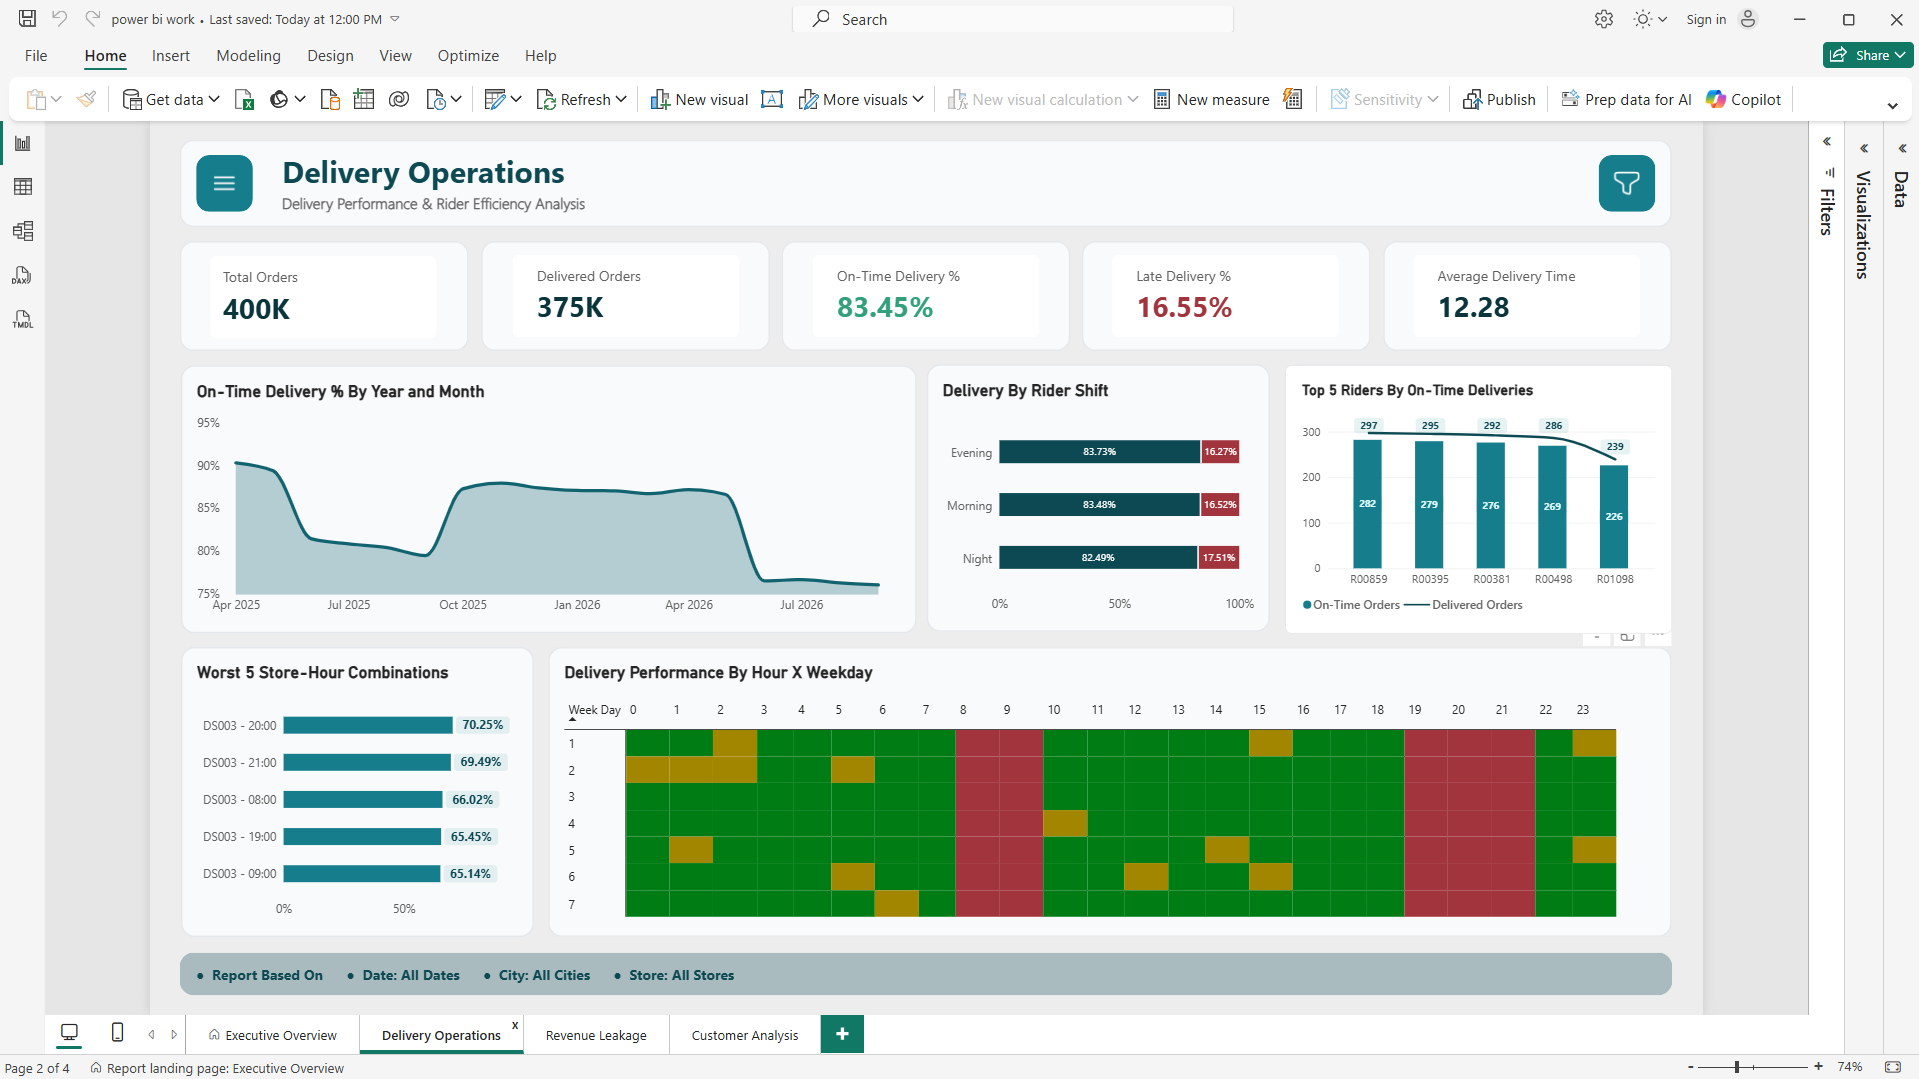

Layout of this report page (visuals, bound fields, positions):
{"tool":"powerbi","page":{"name":"Delivery Operations","canvas":[1920,1105],"ordinal":1},"visuals":[{"type":"shape","box":[37.1,22.9,1844.1,108.2],"z":0},{"type":"shape","box":[37.6,301.2,909.6,331.6],"z":1000},{"type":"shape","box":[37.1,148.2,357.2,136.3],"z":2000},{"type":"shape","box":[960.1,301,424.4,331.1],"z":3000},{"type":"shape","box":[492.2,650.4,1388.7,358.9],"z":4000},{"type":"shape","box":[38.1,650.4,436.5,358.9],"z":5000},{"type":"shape","box":[37.3,1027.2,1844.5,52.7],"z":6000},{"type":"shape","box":[408.7,148.2,357.2,136.3],"z":7000},{"type":"shape","box":[780.3,148.2,357.2,136.3],"z":8000},{"type":"shape","box":[1151.8,148.2,357.2,136.3],"z":9000},{"type":"shape","box":[1523.4,148.2,357.2,136.3],"z":10000},{"type":"actionButton","box":[56.7,41.7,70,70],"z":11000},{"type":"actionButton","box":[1790,41.7,70,70],"z":12000},{"type":"shape","box":[163.3,58.3,416.2,54.2],"z":13000},{"type":"shape","box":[163.3,31.7,416.2,54.2],"z":14000},{"type":"cardVisual","title":"ss","fields":{"Data":["1_Measure.Total Orders"]},"box":[57.1,149.4,314.9,136.2],"z":17000},{"type":"cardVisual","fields":{"Data":["1_Measure.On-Time Delivery %"]},"box":[802.7,147.9,314.9,136.2],"z":18000},{"type":"cardVisual","fields":{"Data":["1_Measure.Late Delivery %"]},"box":[1171.9,147.9,314.9,136.2],"z":19000},{"type":"cardVisual","fields":{"Data":["1_Measure.Average Delivery Time"]},"box":[1543.9,147.9,314.9,136.2],"z":20000},{"type":"cardVisual","fields":{"Data":["1_Measure.Delivered Orders"]},"box":[430.7,147.9,314.9,136.2],"z":21000},{"type":"shape","box":[1401.1,301,478.6,331.1],"z":25500},{"type":"lineChart","title":"On-Time Delivery % By Year and Month","fields":{"Category":["calender.Date.Variation.Date Hierarchy.Year","calender.Date.Variation.Date Hierarchy.Month"],"Y":["1_Measure.On-Time Delivery %"]},"box":[37.8,301.7,909.1,331.2],"z":25531},{"type":"pivotTable","title":"Delivery Performance By Hour X Weekday","fields":{"Columns":["orders.order_hour"],"Rows":["calender.weekday"],"Values":["1_Measure.Late Delivery %"]},"box":[492.2,650.4,1388.7,358.9],"z":25562},{"type":"clusteredBarChart","title":"Worst 5 Store-Hour Combinations","fields":{"Category":["orders.Store Hour"],"Y":["1_Measure.Late Delivery %"]},"box":[38.1,650.4,436.5,358.9],"z":25625},{"type":"hundredPercentStackedBarChart","title":"Delivery By Rider Shift","fields":{"Category":["riders.shift"],"Y":["1_Measure.On-Time Delivery %","1_Measure.Late Delivery %"]},"box":[960.1,301,424.4,331.1],"z":25750},{"type":"lineStackedColumnComboChart","title":"Top 5 Riders By  On-Time Deliveries","fields":{"Category":["riders.rider_id"],"Y":["1_Measure.On-Time Orders"],"Y2":["1_Measure.Delivered Orders"]},"box":[1402.9,301.4,478.6,331.4],"z":26000}]}

Visuals, with their boxes on the page's 1920x1105 design canvas (x1, y1, x2, y2). These are canvas units, not pixel positions in the 1919x1079 screenshot, which may show the page scaled, cropped or inside an application window:
shape: bbox=[37, 23, 1881, 131]
shape: bbox=[38, 301, 947, 633]
shape: bbox=[37, 148, 394, 284]
shape: bbox=[960, 301, 1384, 632]
shape: bbox=[492, 650, 1881, 1009]
shape: bbox=[38, 650, 475, 1009]
shape: bbox=[37, 1027, 1882, 1080]
shape: bbox=[409, 148, 766, 284]
shape: bbox=[780, 148, 1138, 284]
shape: bbox=[1152, 148, 1509, 284]
shape: bbox=[1523, 148, 1881, 284]
actionButton: bbox=[57, 42, 127, 112]
actionButton: bbox=[1790, 42, 1860, 112]
shape: bbox=[163, 58, 580, 112]
shape: bbox=[163, 32, 580, 86]
"ss" cardVisual: bbox=[57, 149, 372, 286]
cardVisual - 1_Measure.On-Time Delivery %: bbox=[803, 148, 1118, 284]
cardVisual - 1_Measure.Late Delivery %: bbox=[1172, 148, 1487, 284]
cardVisual - 1_Measure.Average Delivery Time: bbox=[1544, 148, 1859, 284]
cardVisual - 1_Measure.Delivered Orders: bbox=[431, 148, 746, 284]
shape: bbox=[1401, 301, 1880, 632]
"On-Time Delivery % By Year and Month" lineChart: bbox=[38, 302, 947, 633]
"Delivery Performance By Hour X Weekday" pivotTable: bbox=[492, 650, 1881, 1009]
"Worst 5 Store-Hour Combinations" clusteredBarChart: bbox=[38, 650, 475, 1009]
"Delivery By Rider Shift" hundredPercentStackedBarChart: bbox=[960, 301, 1384, 632]
"Top 5 Riders By  On-Time Deliveries" lineStackedColumnComboChart: bbox=[1403, 301, 1882, 633]
